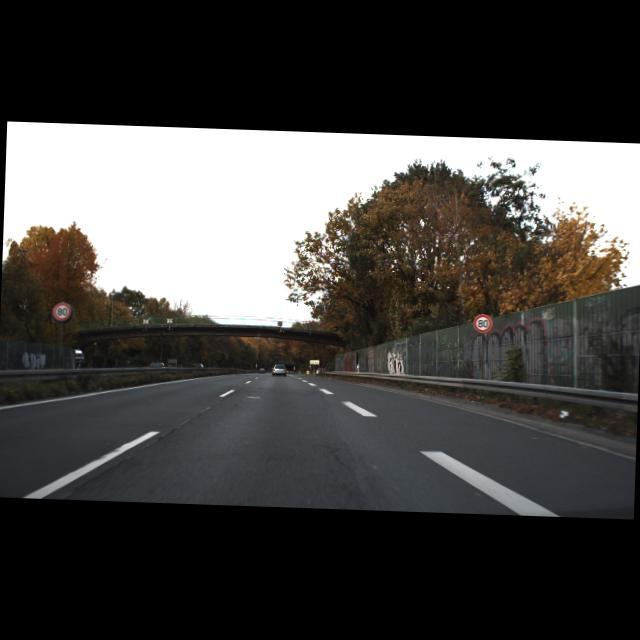prohibitory: (52, 302, 70, 321), (473, 314, 491, 332)
